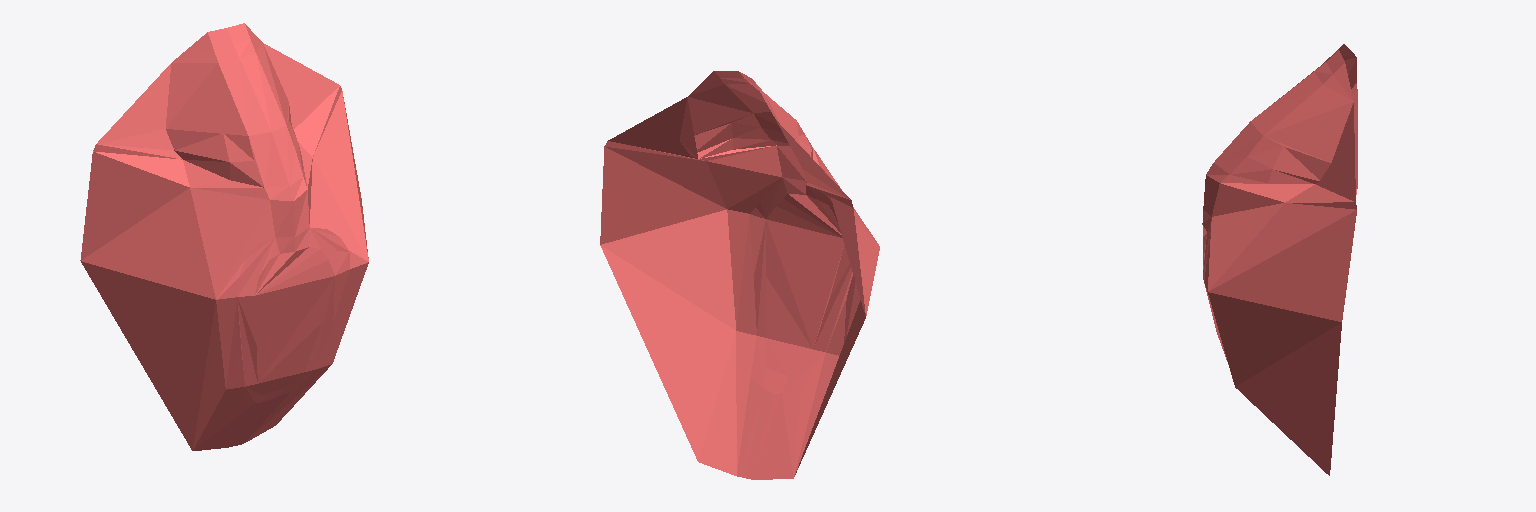
The model's file is tapabocas_este_v2.obj.
3 views of the same model, side by side, from view 1: azimuth 30°, elevation 25°; view 2: azimuth 150°, elevation 25°; view 3: azimuth 270°, elevation 25° (orthographic).
Parts seen in each view (by area): view 1: mascaraShape3Envelope mascara3; view 2: mascaraShape3Envelope mascara3; view 3: mascaraShape3Envelope mascara3.
Part boxes in pixels (left/top/right/bottom): mascaraShape3Envelope mascara3: left=80, top=23, right=368, bottom=450; mascaraShape3Envelope mascara3: left=600, top=71, right=879, bottom=479; mascaraShape3Envelope mascara3: left=1202, top=44, right=1357, bottom=475.
Bounding box in the file's own units: 3.77 × 5.44 × 1.85.